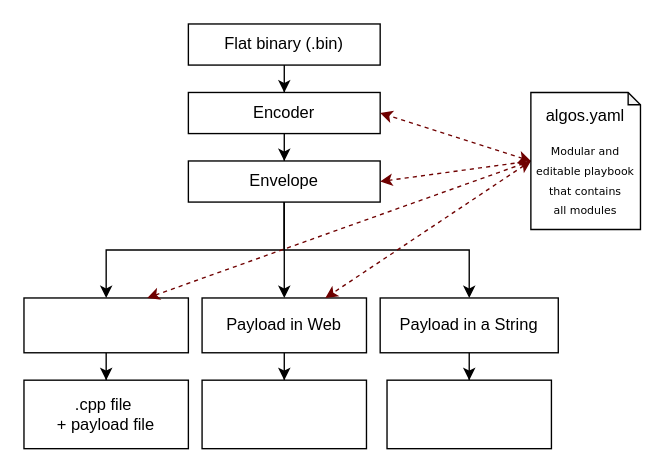
Image size: 664x473. Some labels were removed from this diagram. The shapes that lost their labels are listed below. From the top down, each one's box as (x1, y1, x2, y2) in pixels, then its label:
(23, 297, 188, 353): Payload in external file (.jpg, .ico, ..)
(201, 379, 366, 449): .cpp file + URL
(386, 379, 551, 449): Single .cpp file
